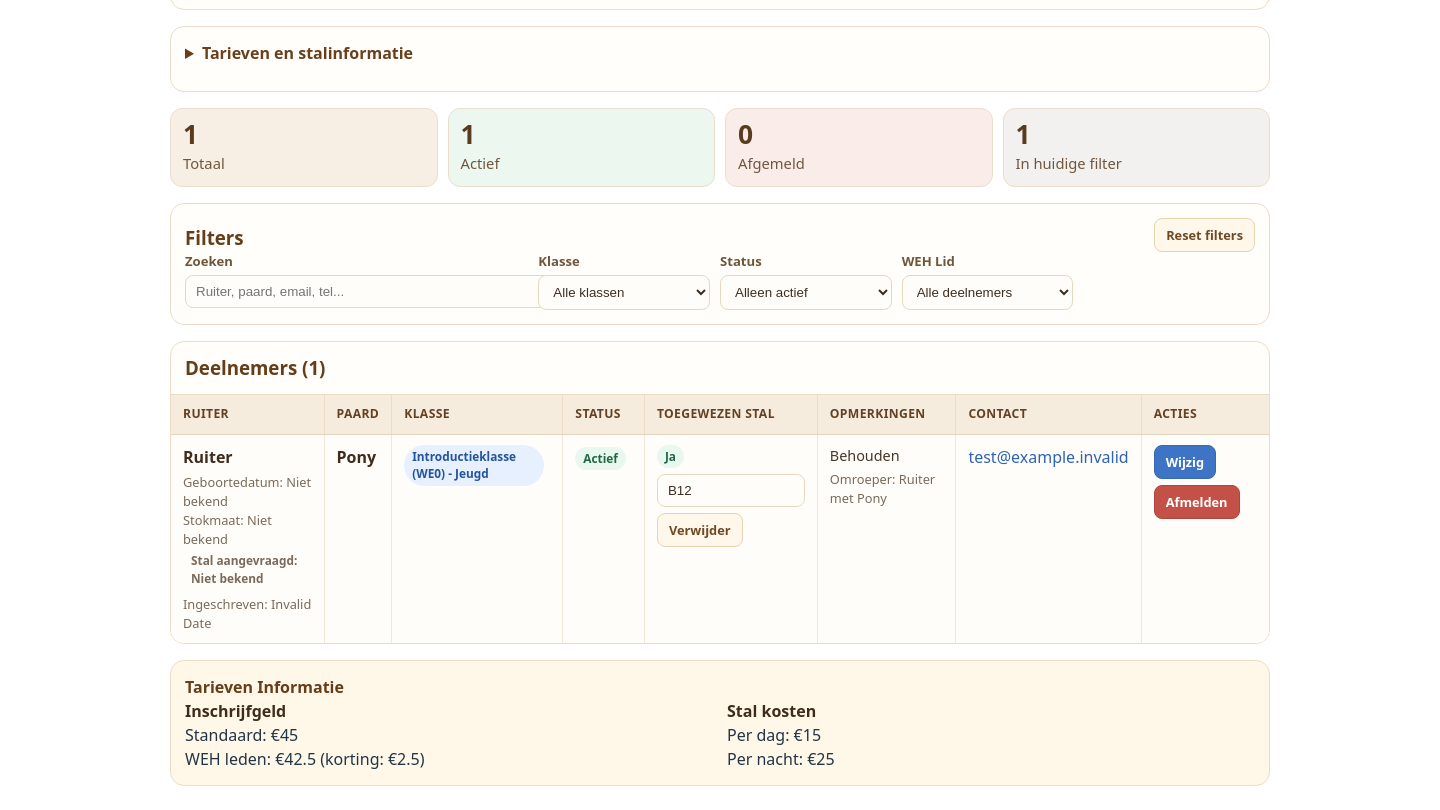
Test case: does not report cancellation as successful after an RPC failure
(page scrolled)
Click the button "Afmelden".
click(1197, 502)  # box [1154,485,1240,519]
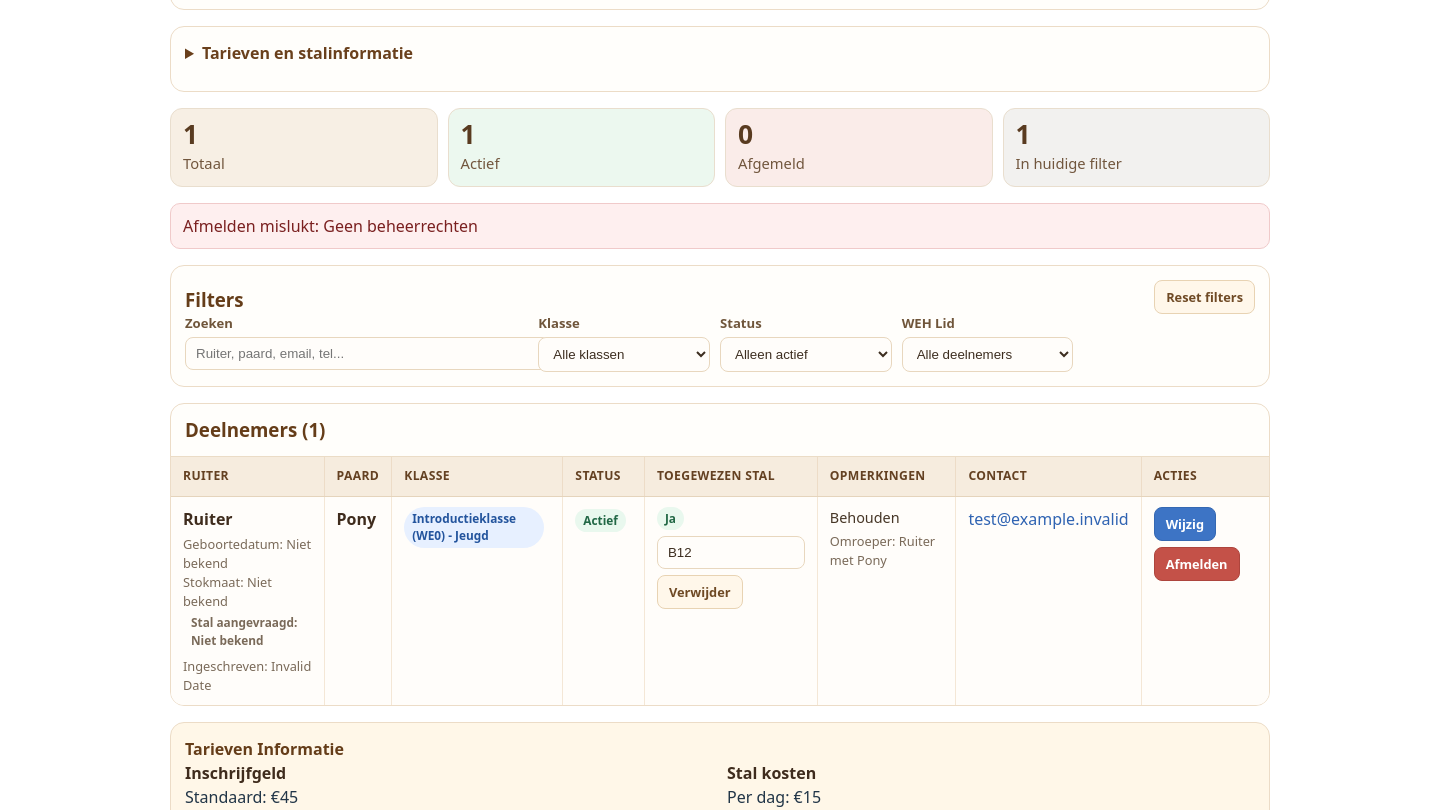
Check: the text "Afmelden mislukt: Geen beheerrechten" is shown, box [170,203,1270,249]
